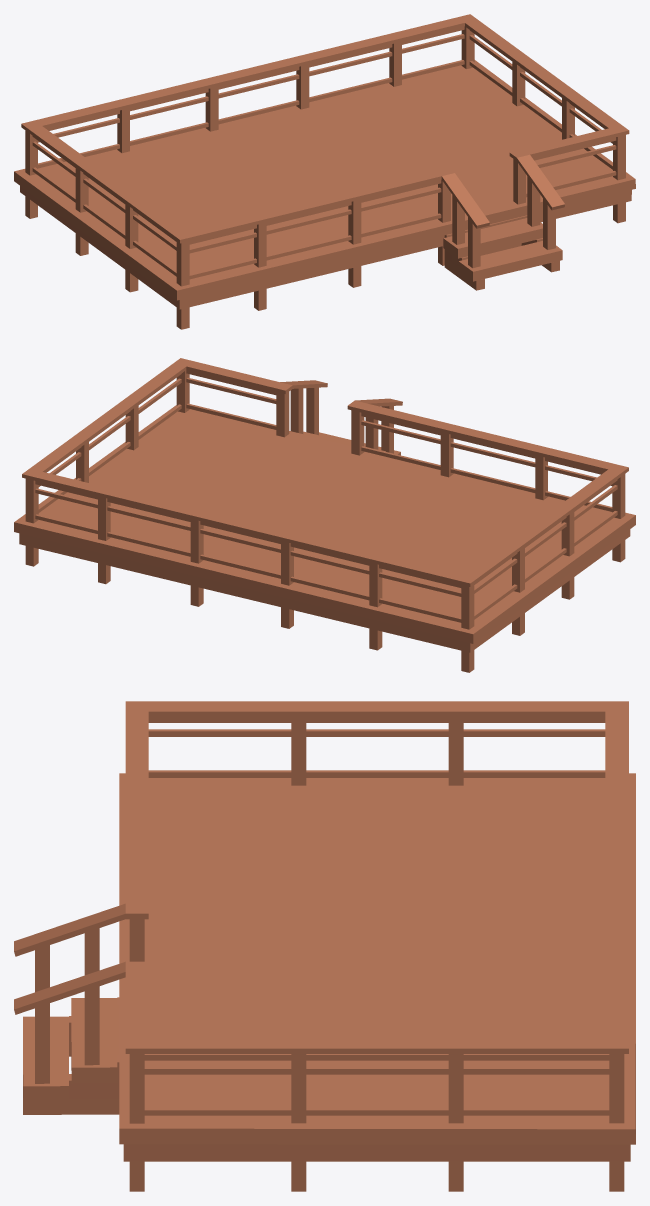
Rendered from Mountain_Foundation_Small.fbx.
3 renders of one model, top to bottom at view 1: azimuth 30°, elevation 25°; view 2: azimuth 150°, elevation 25°; view 3: azimuth 270°, elevation 25°, orthographic. The views are drawn at different scales.
Parts seen in each view (by area): view 1: Mountain_Foundation_Small; view 2: Mountain_Foundation_Small; view 3: Mountain_Foundation_Small.
Part boxes in pixels (left/top/right/bottom): Mountain_Foundation_Small: left=14, top=14, right=635, bottom=329; Mountain_Foundation_Small: left=14, top=358, right=635, bottom=672; Mountain_Foundation_Small: left=14, top=701, right=635, bottom=1191.
Size of the model in its own units: 219 by 162 by 41.61.
